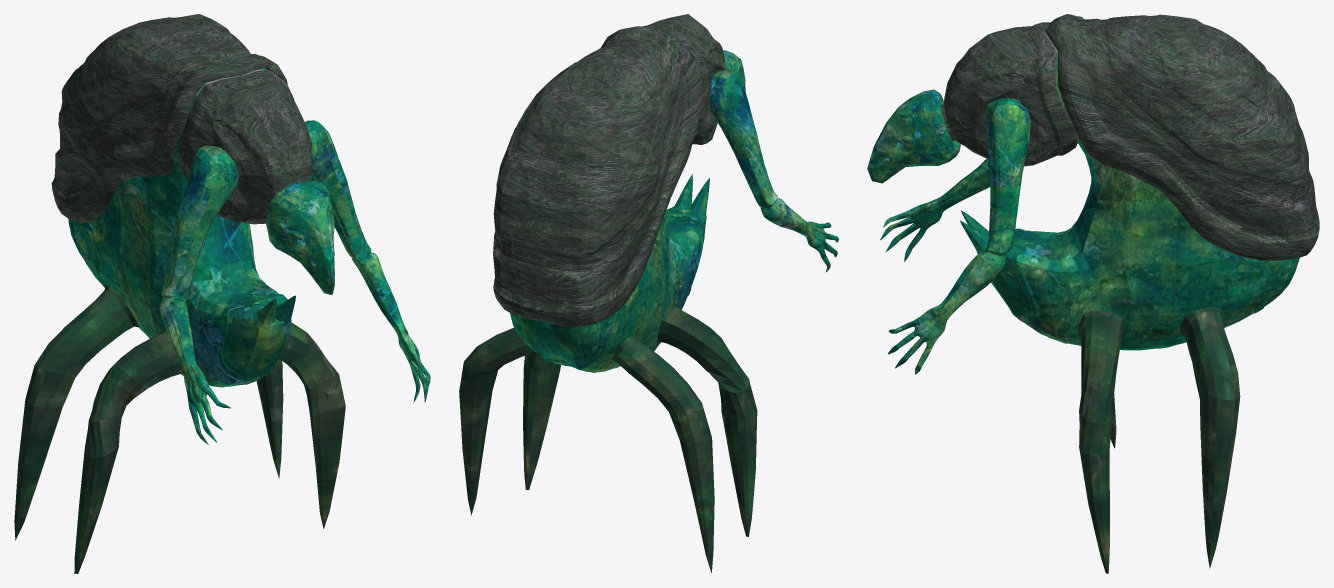
The model's file is Andar.0014.obj.
3 views of the same model, side by side, from view 1: azimuth 30°, elevation 25°; view 2: azimuth 150°, elevation 25°; view 3: azimuth 270°, elevation 25° (orthographic). The views are drawn at different scales.
Size of the model in its own units: 2.16 by 3.93 by 3.24.
5 materials, 4 textured.
